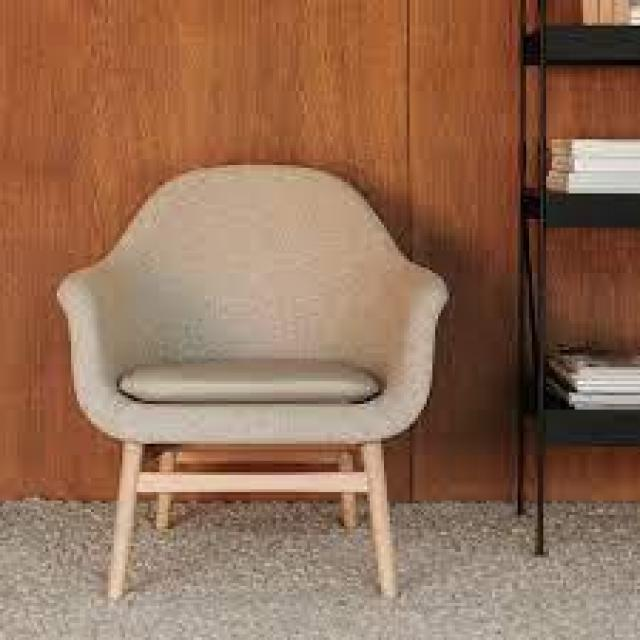chair: (39, 135, 476, 619)
